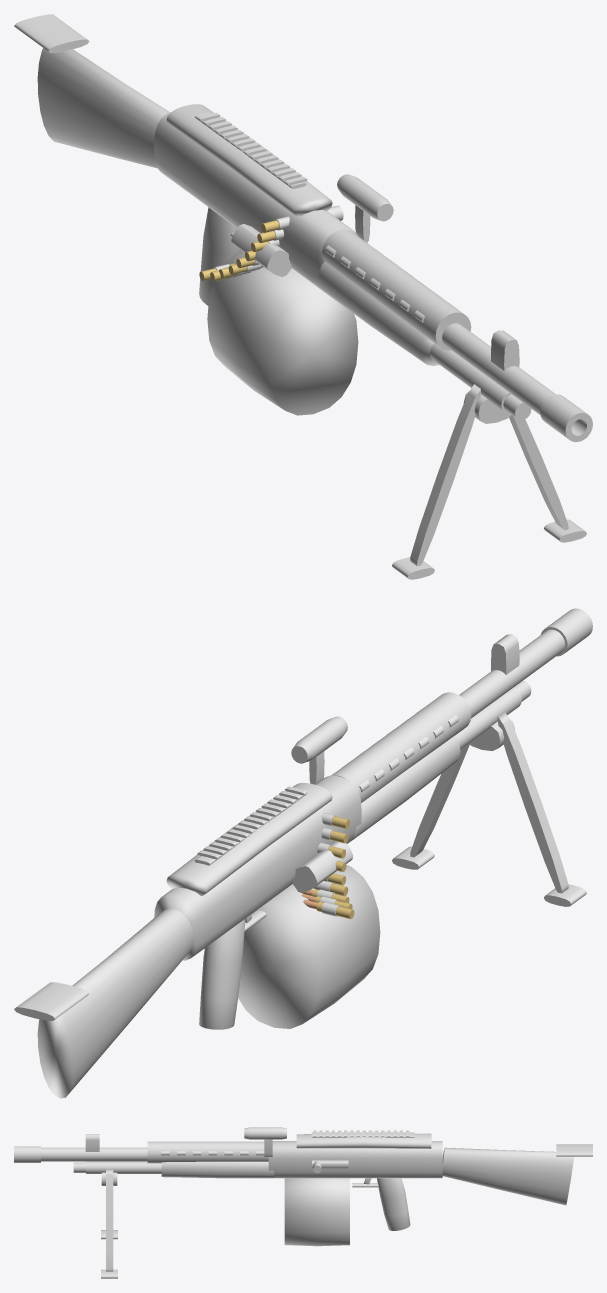
Rendered from Weapon_MachineGun.fbx.
3 renders of one model, top to bottom at view 1: azimuth 30°, elevation 25°; view 2: azimuth 150°, elevation 25°; view 3: azimuth 270°, elevation 25°, orthographic. The views are drawn at different scales.
Parts seen in each view (by area): view 1: Weapon_MachineGun; view 2: Weapon_MachineGun; view 3: Weapon_MachineGun.
Boxes of the visible parts, left/top/right/bottom form: Weapon_MachineGun: left=14, top=14, right=592, bottom=579; Weapon_MachineGun: left=14, top=608, right=592, bottom=1098; Weapon_MachineGun: left=14, top=1127, right=592, bottom=1278.
Size of the model in its own units: 0.196 by 1.03 by 0.2645.
